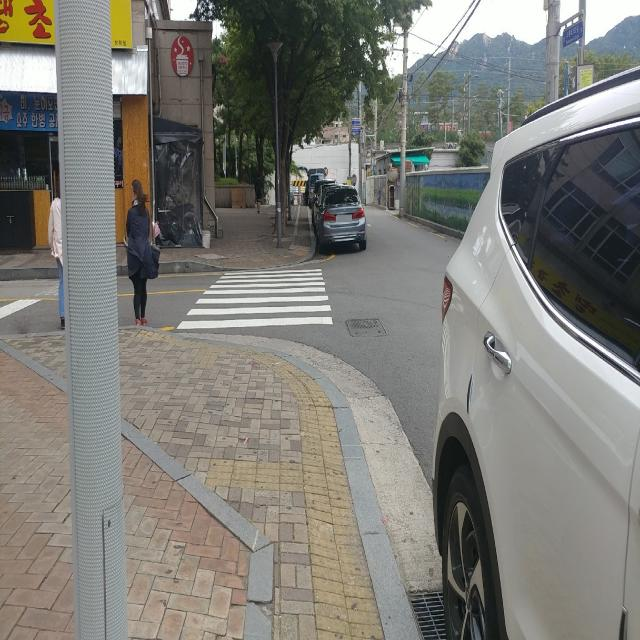횡단보도: (175, 268, 334, 332)
